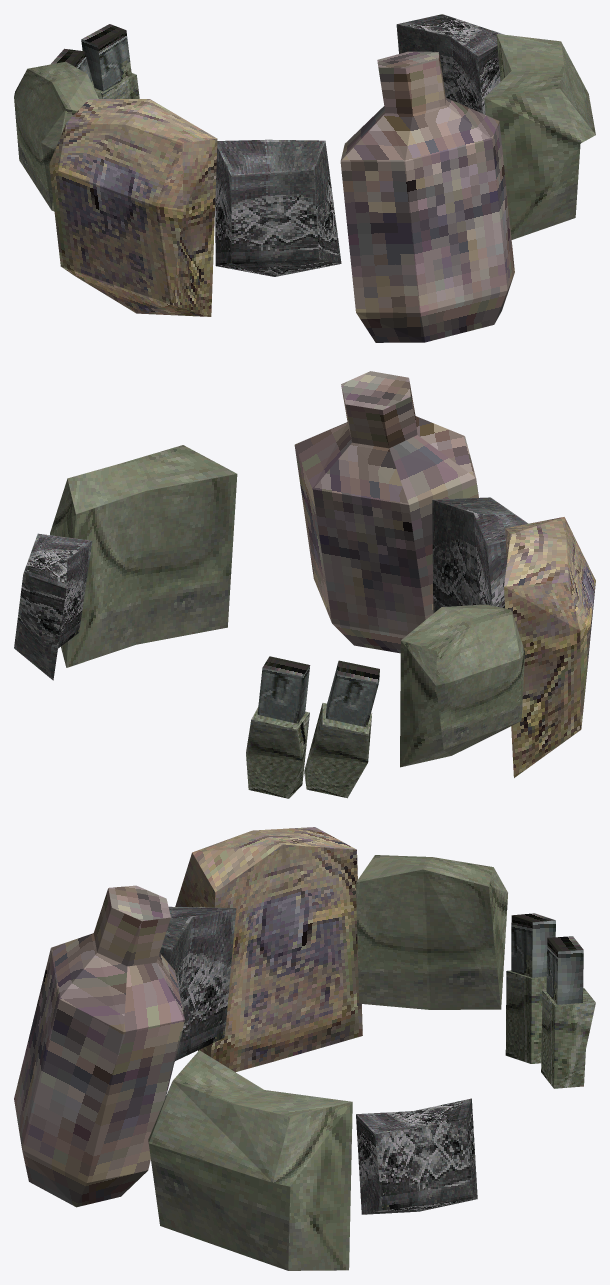
Rendered from recovered_gear_seal_scuba_aslt_gear_48f08f1eb91f.glb.
3 renders of one model, top to bottom at view 1: azimuth 30°, elevation 25°; view 2: azimuth 150°, elevation 25°; view 3: azimuth 270°, elevation 25°, orthographic. The views are drawn at different scales.
Parts seen in each view (by area): view 1: seal_scuba_aslt_gear; view 2: seal_scuba_aslt_gear; view 3: seal_scuba_aslt_gear.
Part boxes in pixels (x1=…): seal_scuba_aslt_gear: x1=14, y1=14, x2=595, y2=342; seal_scuba_aslt_gear: x1=14, y1=371, x2=595, y2=798; seal_scuba_aslt_gear: x1=14, y1=827, x2=595, y2=1270.
Bounding box in the file's own units: 0.5028 × 0.2409 × 0.4471.
Materials: 5 (5 with a texture image).
